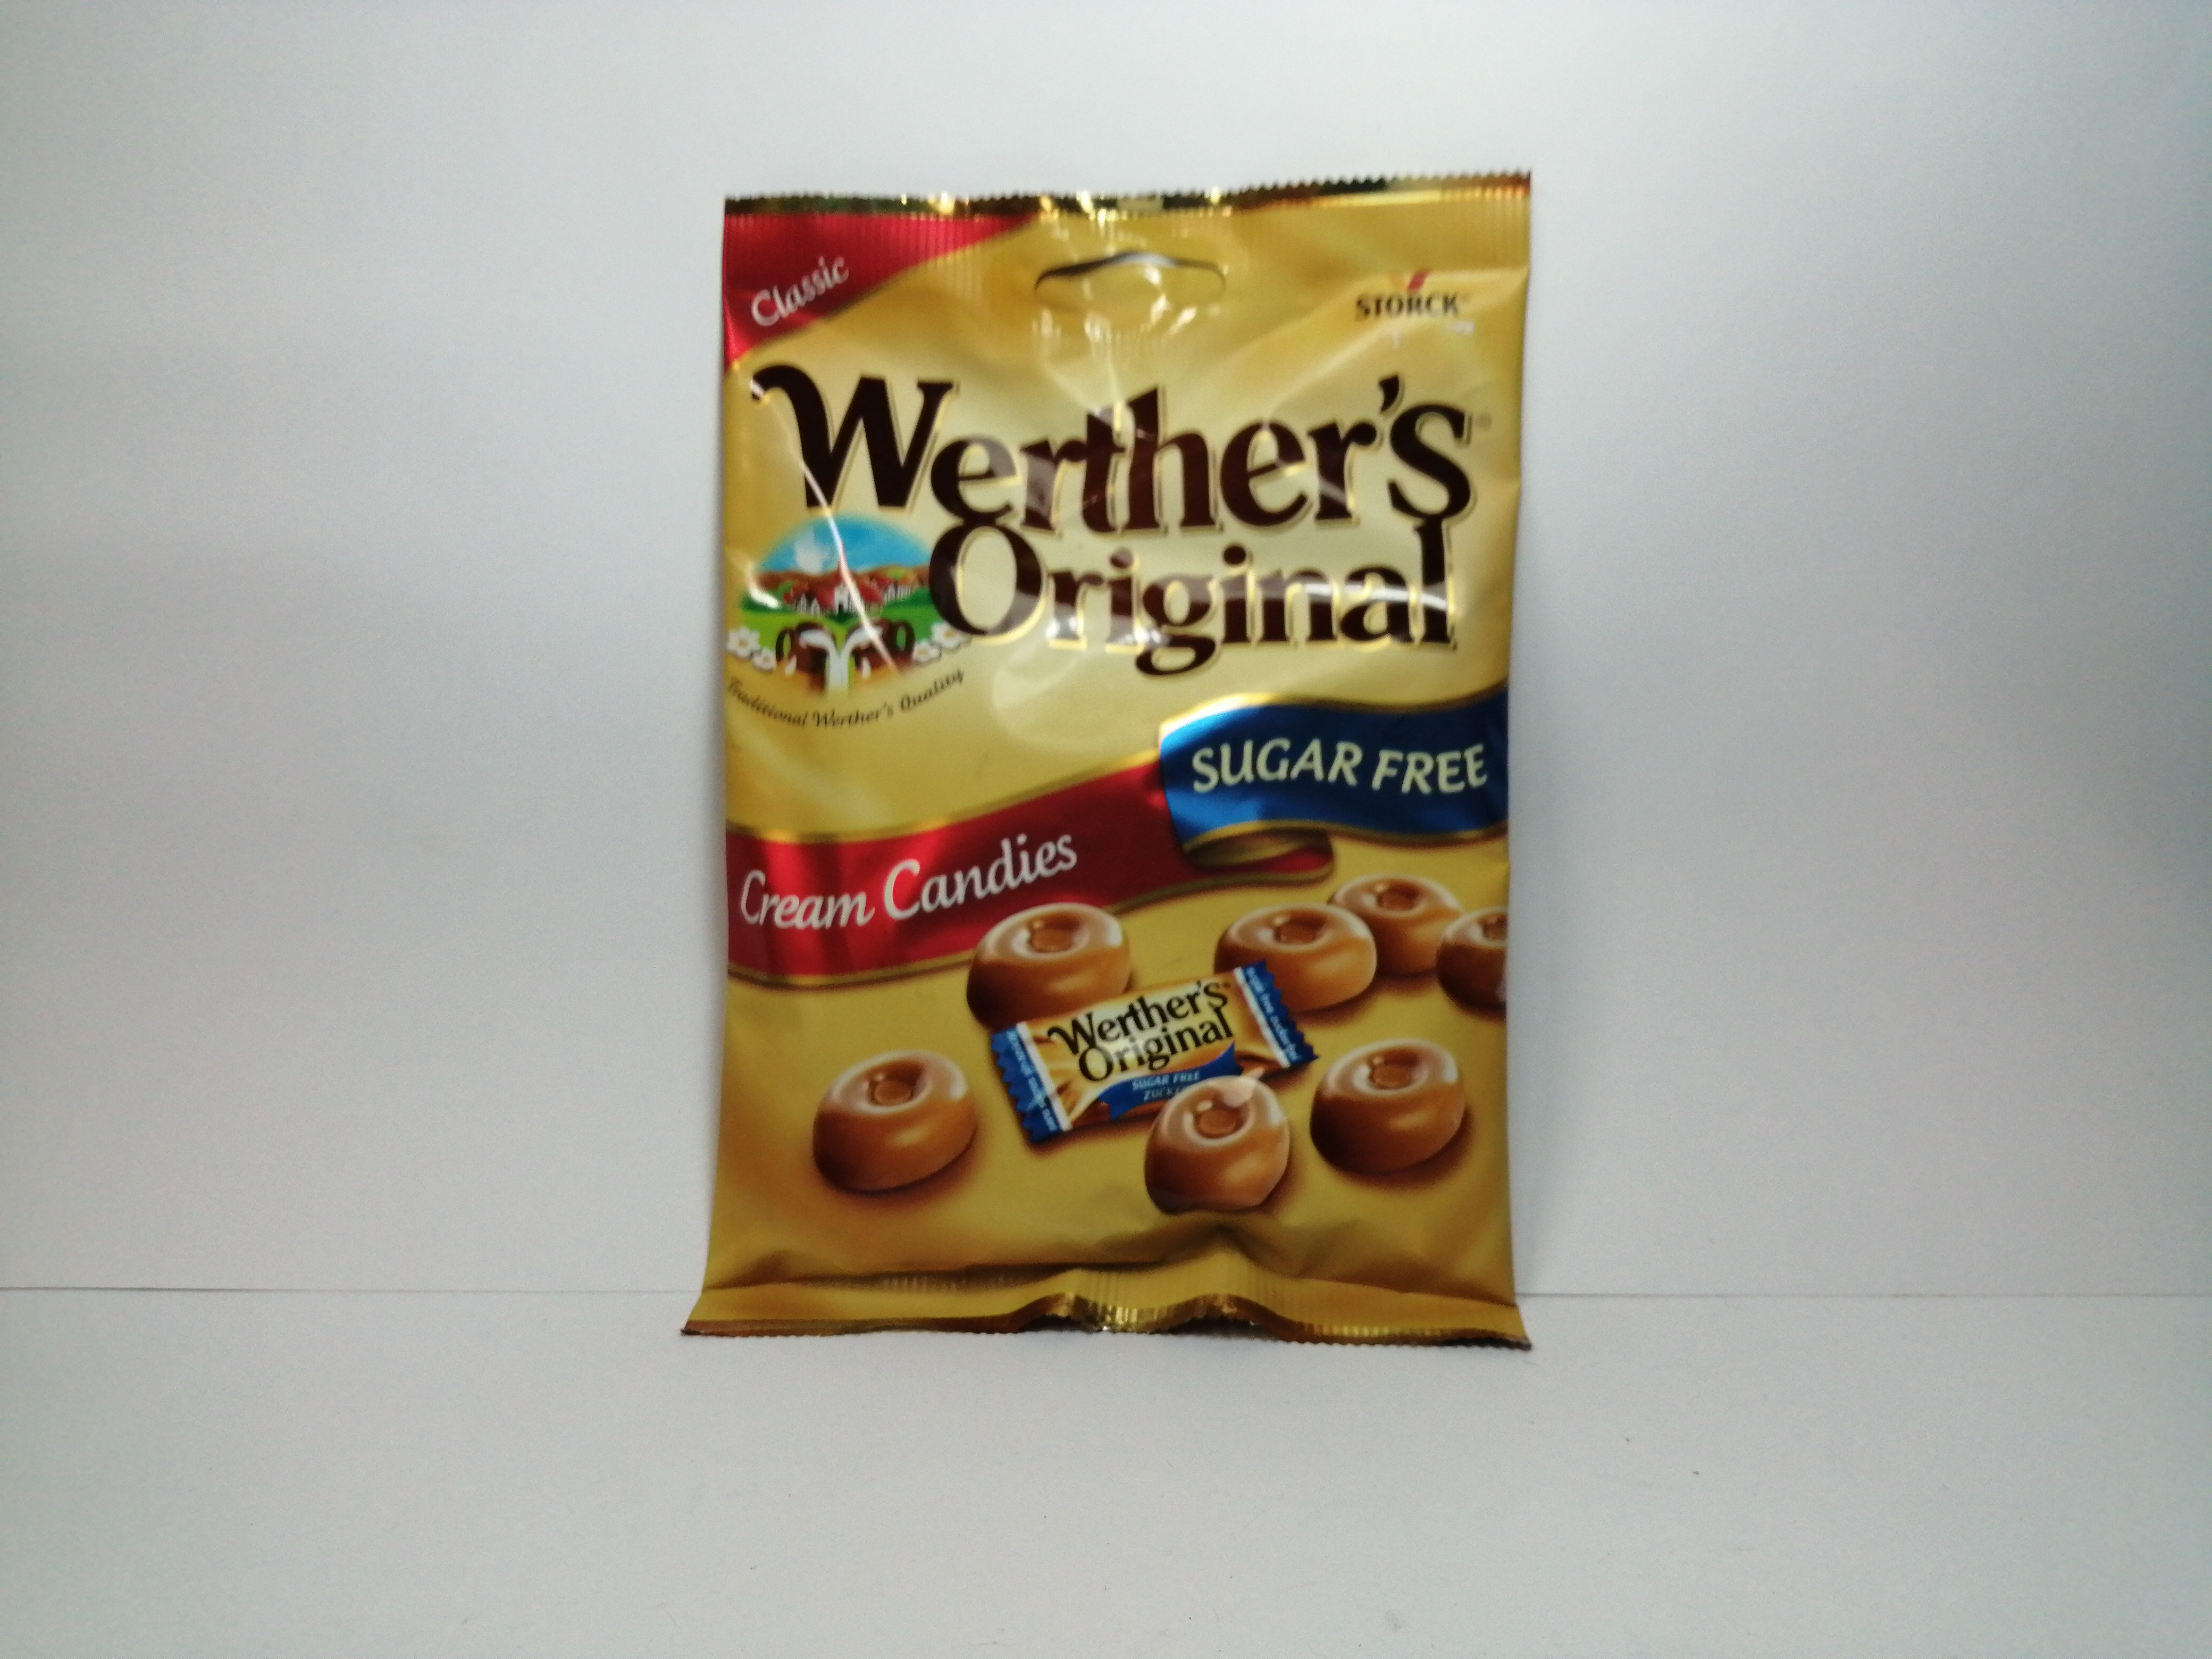dulces: (690, 190, 1533, 1347)
